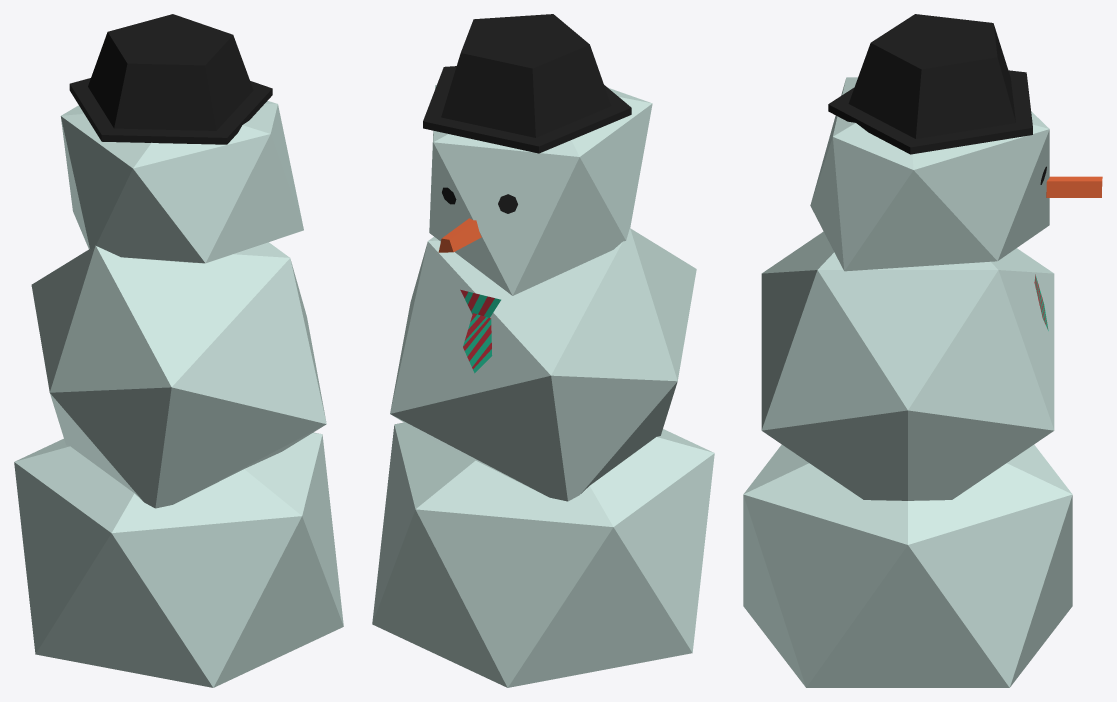
File: snow man.001.fbx
3 views of the same model, side by side, from view 1: azimuth 30°, elevation 25°; view 2: azimuth 150°, elevation 25°; view 3: azimuth 270°, elevation 25° (orthographic). The views are drawn at different scales.
Visible parts, largest first — view 1: snow man.001; view 2: snow man.001; view 3: snow man.001.
Boxes of the visible parts, left/top/right/bottom form: snow man.001: left=14, top=14, right=343, bottom=687; snow man.001: left=372, top=14, right=714, bottom=687; snow man.001: left=743, top=14, right=1102, bottom=687.
Bounding box in the file's own units: 184 × 380 × 191.
